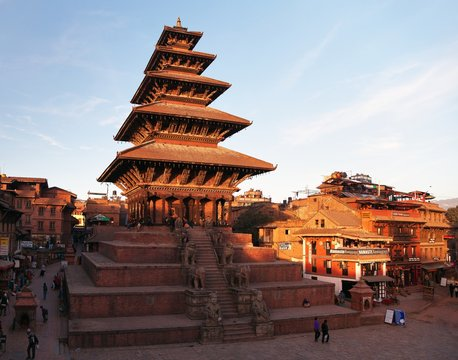nyathapola: (77, 15, 283, 354)
